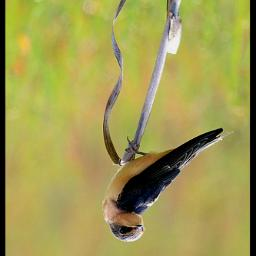Swallow: (102, 121, 237, 249)
